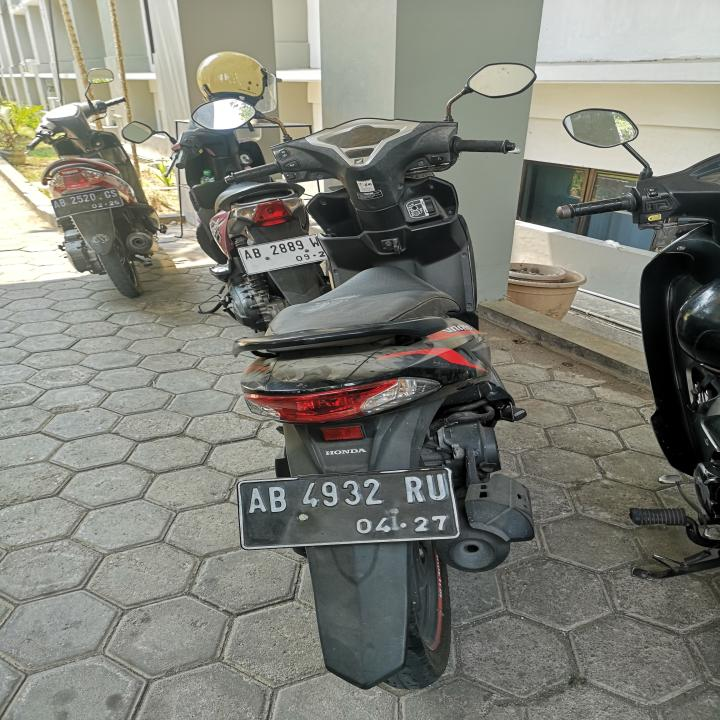plate: (235, 465, 463, 550), (236, 231, 328, 277), (50, 187, 124, 221)
